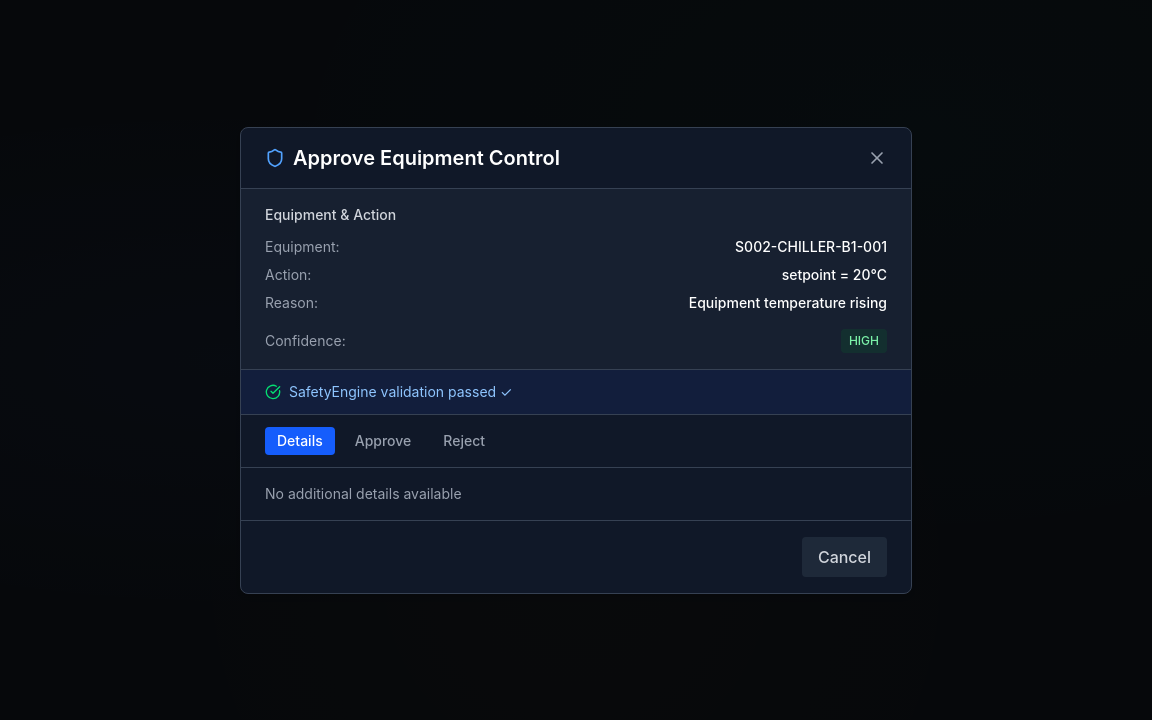
ApprovalDialog › should switch between approve and reject tabs
The width and height of the screenshot is (1152, 720).
// Dialog opens on "details" tab by default, click "Approve" tab first
Step 1. Click the button "Approve" → (383, 440), box [343,426,423,454]
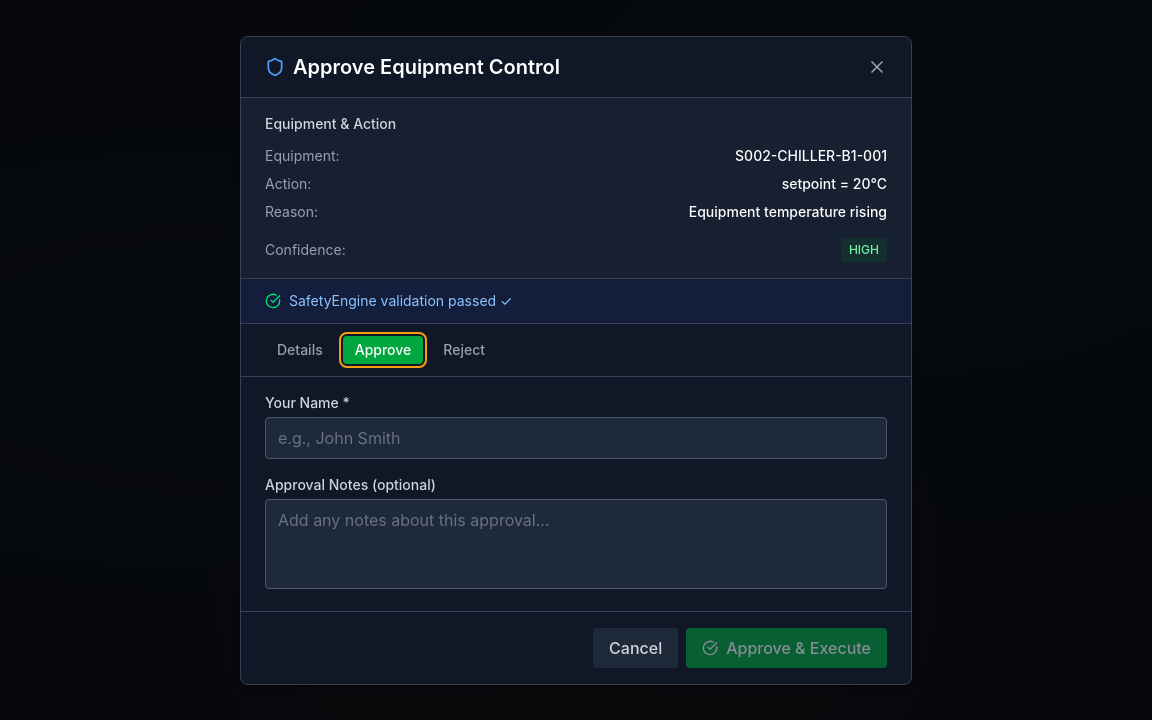
Now the text "Approval Notes (optional)" is shown, box [265,476,436,492]
Step 2. Click the button "Reject" → (464, 350), box [431,336,497,364]
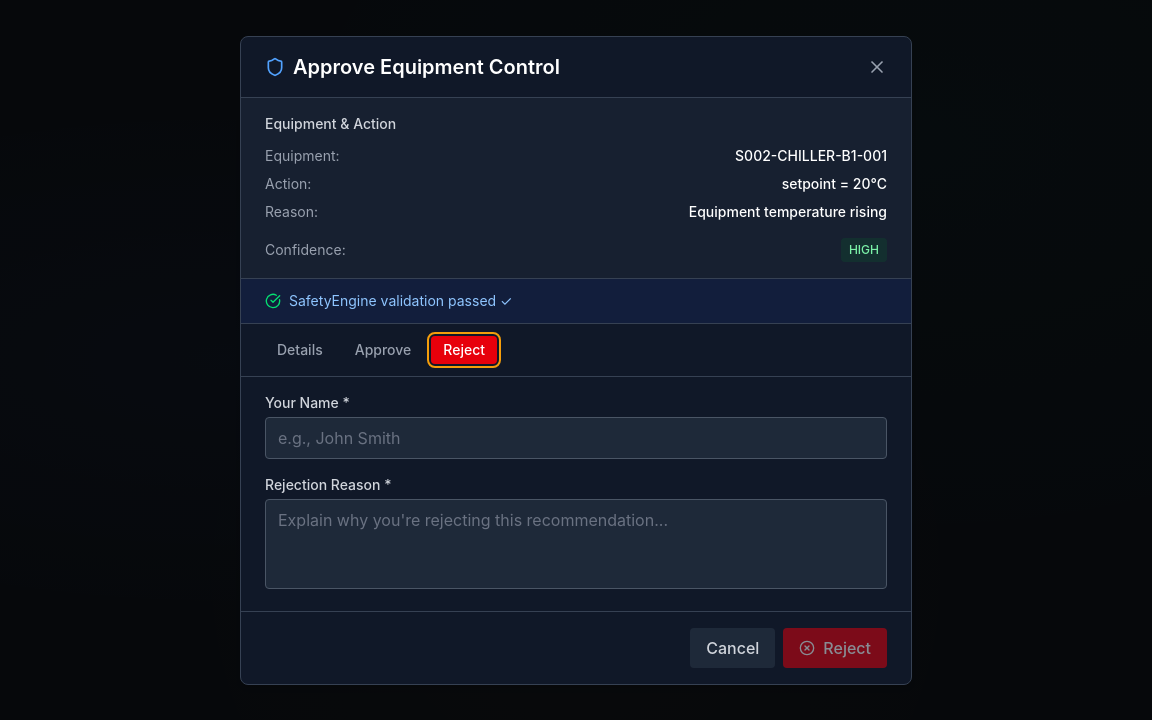
Now the text "Rejection Reason *" is shown, box [265,476,392,492]
